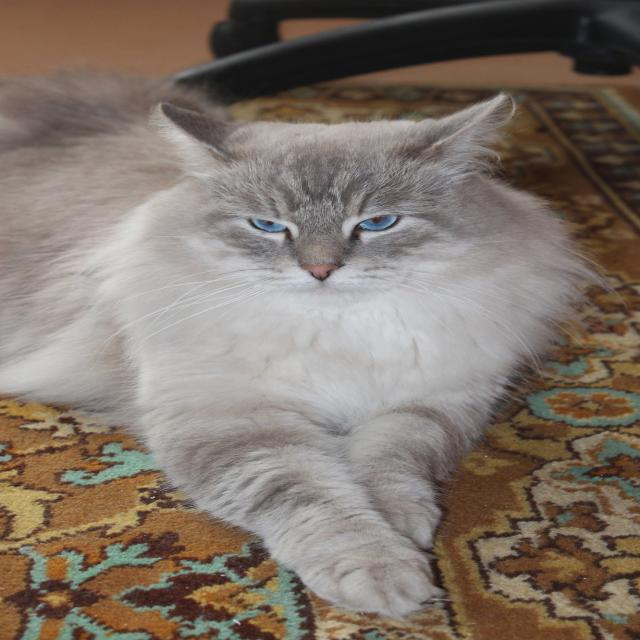Neva Masquerade: (0, 63, 610, 629)
